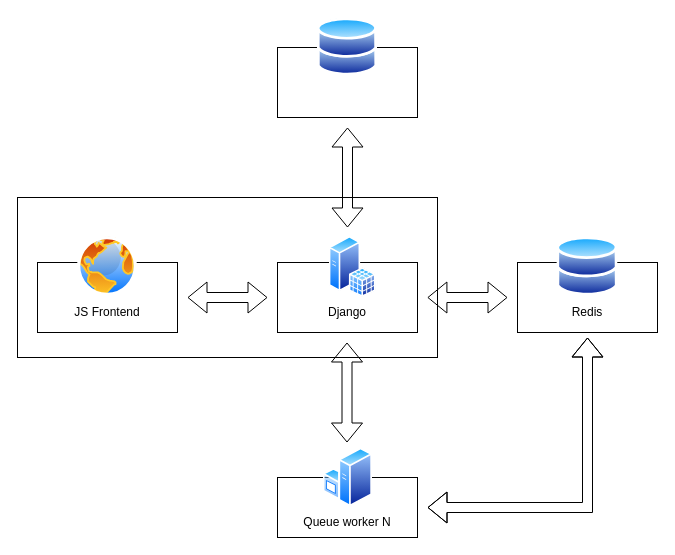
Some shapes in this 675 by 555 pixel diagram are drawn without their labels. Each missing label, with the box of its shape:
PostgreSQL: (276, 46, 418, 118)
Server: (16, 196, 438, 358)
